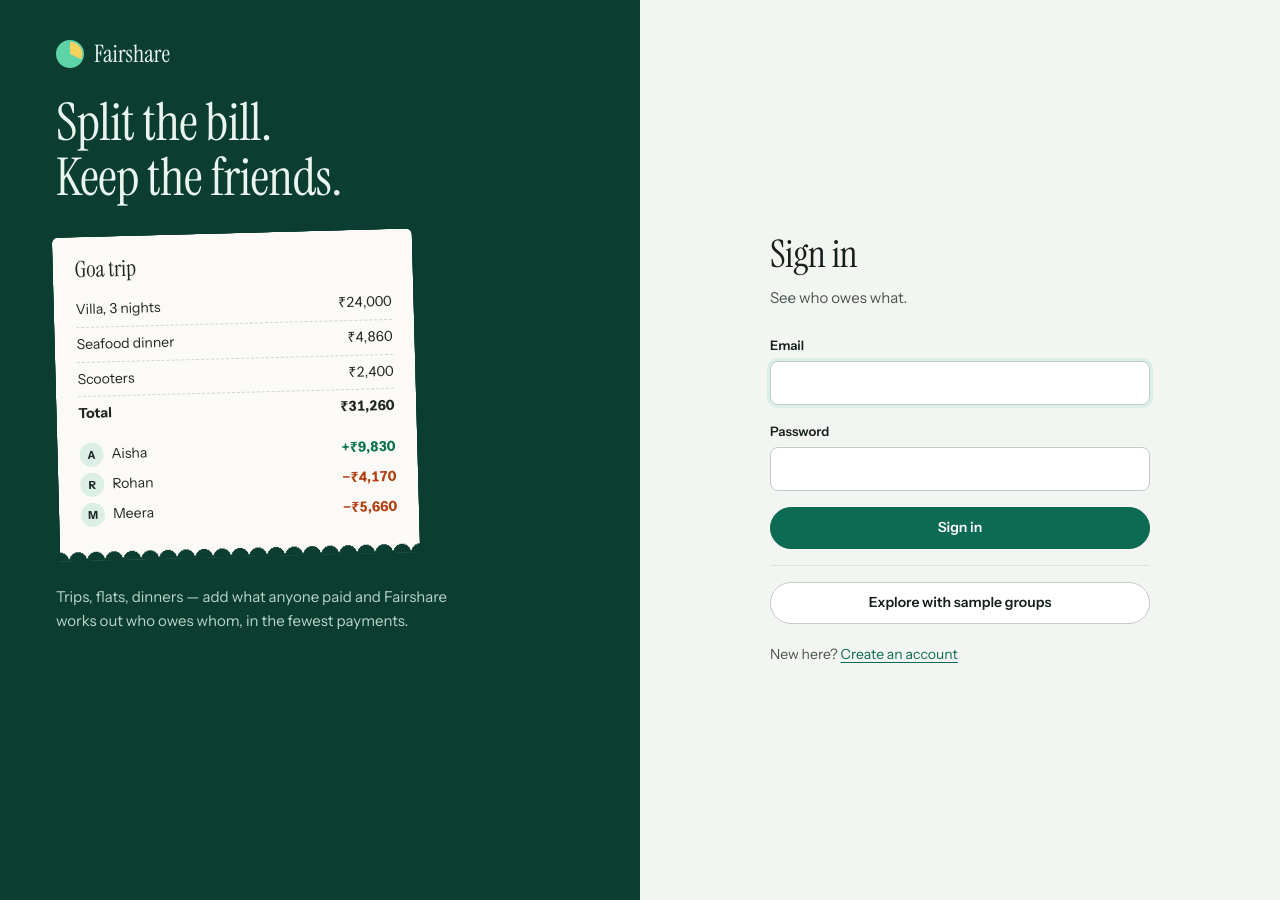
Test case: accounts › "Explore with sample groups" shows balances per currency
The image size is (1280, 900).
Click the button "Explore with sample groups": (960, 603) [770, 582, 1150, 624]
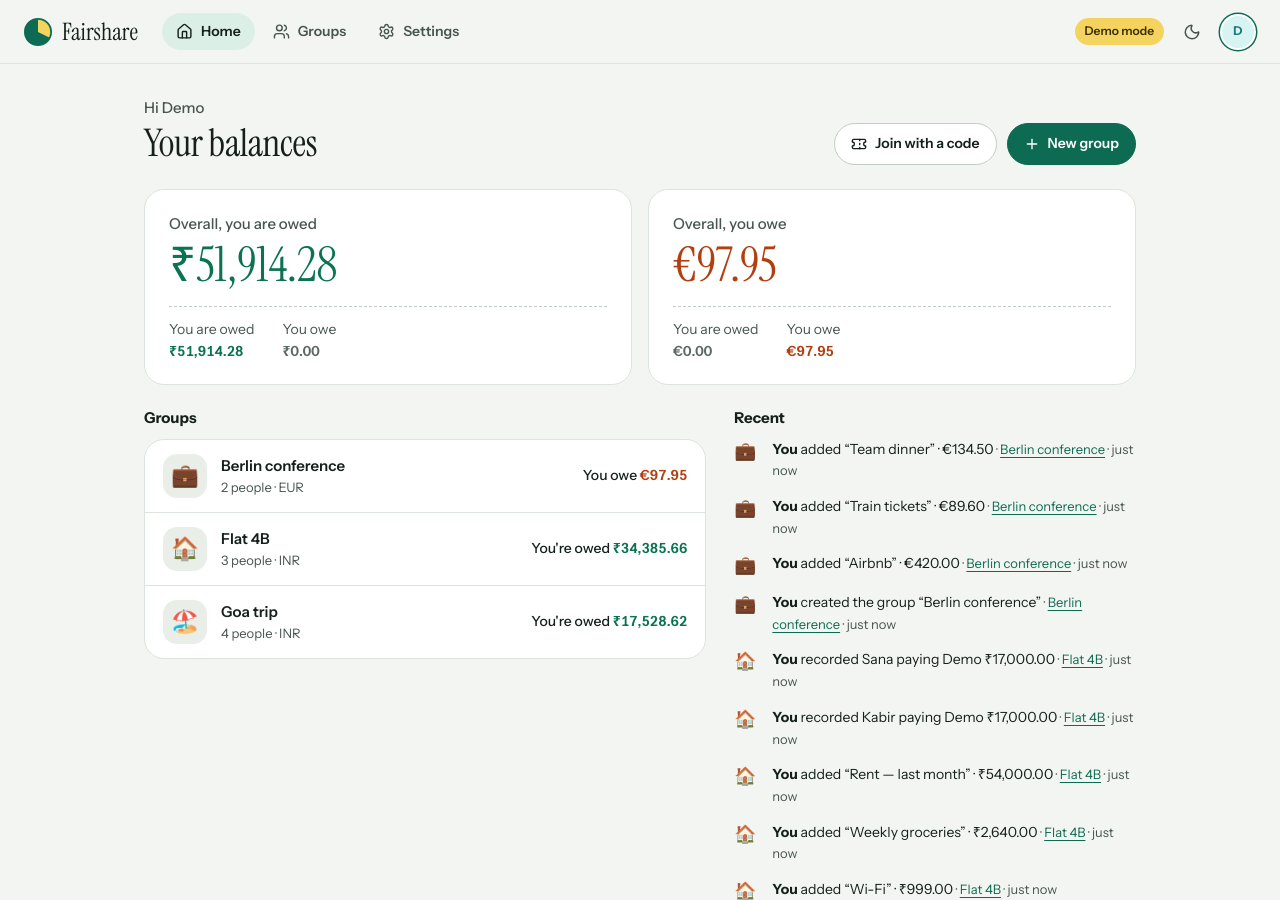
Expected: the element named "INR balance" shows "Overall, you are owed", [169, 214, 317, 233]
Expected: the link "🏖️ Goa trip 4 people · INR You're owed ₹17,528.62" is shown, [145, 586, 705, 658]
